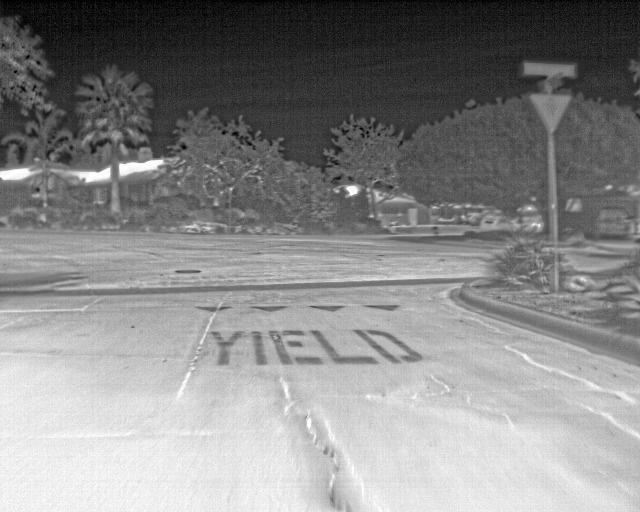car: (595, 205, 631, 239), (481, 213, 519, 231)
